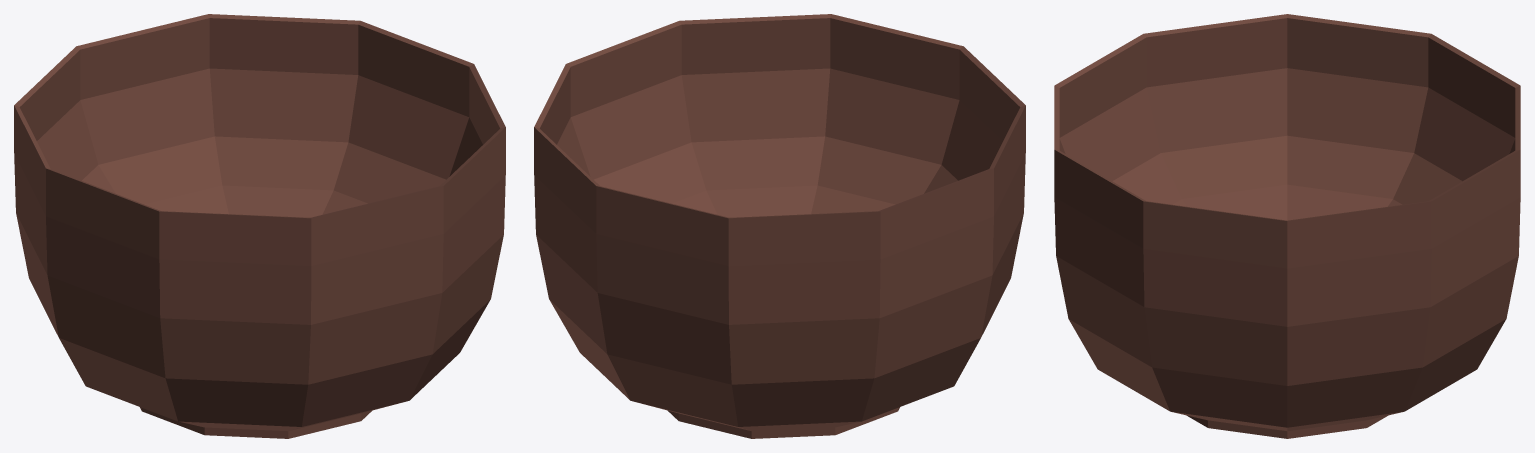
Rendered from mortar.fbx.
3 renders of one model, left to right at view 1: azimuth 30°, elevation 25°; view 2: azimuth 150°, elevation 25°; view 3: azimuth 270°, elevation 25°, orthographic.
Parts seen in each view (by area): view 1: mortar; view 2: mortar; view 3: mortar.
Boxes of the visible parts, <box> form: mortar: <box>14,14,505,438</box>; mortar: <box>534,14,1025,438</box>; mortar: <box>1054,14,1520,438</box>.
Size of the model in its own units: 2.26 by 1.34 by 2.15.
